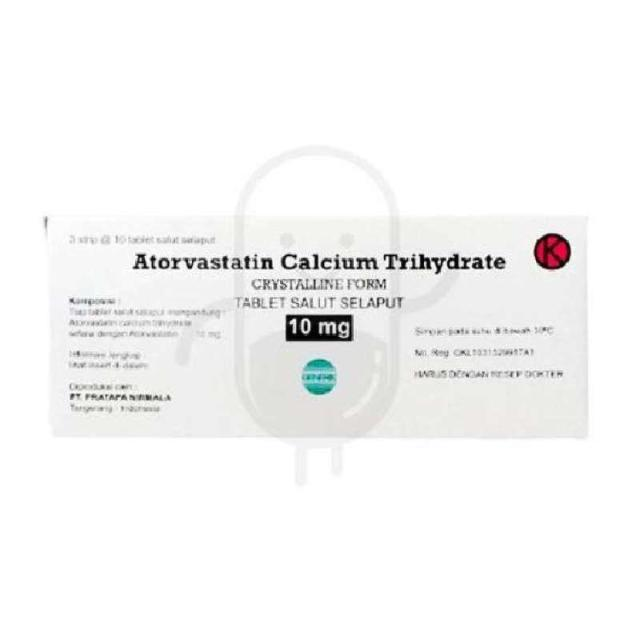drug-name: (128, 248, 275, 275)
